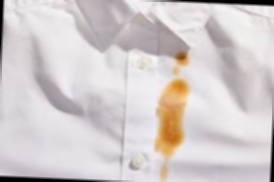coffee: (160, 81, 186, 148), (177, 51, 189, 66)
